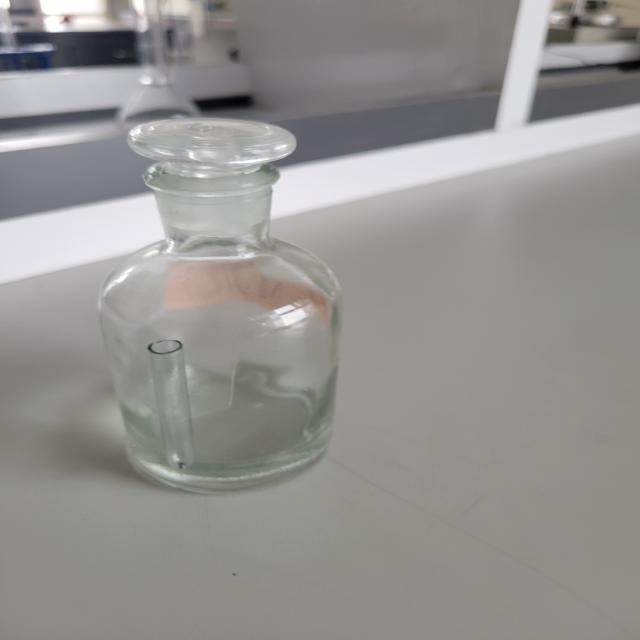Reagent_Bottle: (53, 97, 376, 527)
